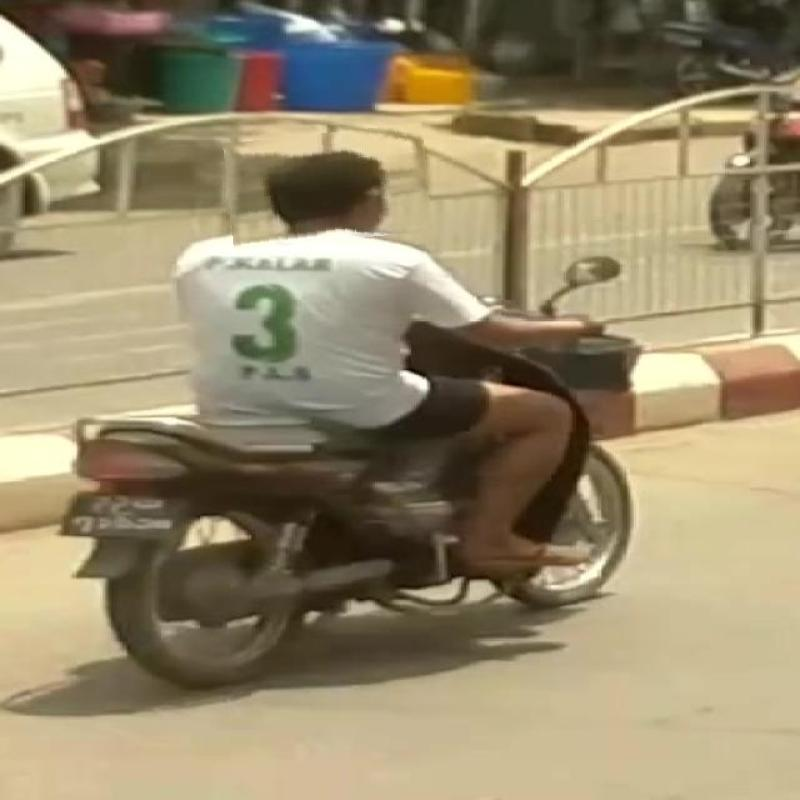nohelmet: (226, 128, 430, 246)
